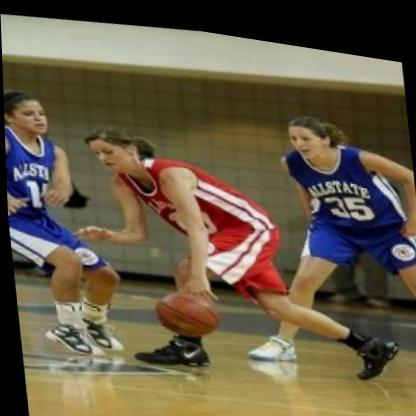basketball: (147, 278, 226, 340)
